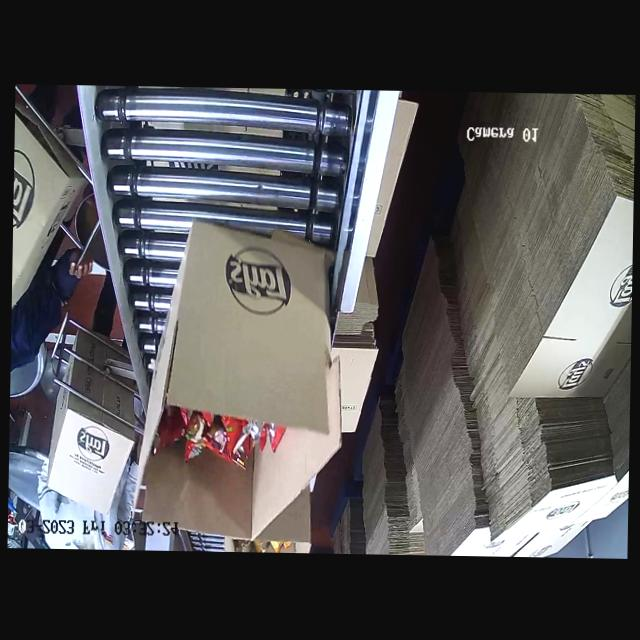masala: (149, 420, 309, 477)
